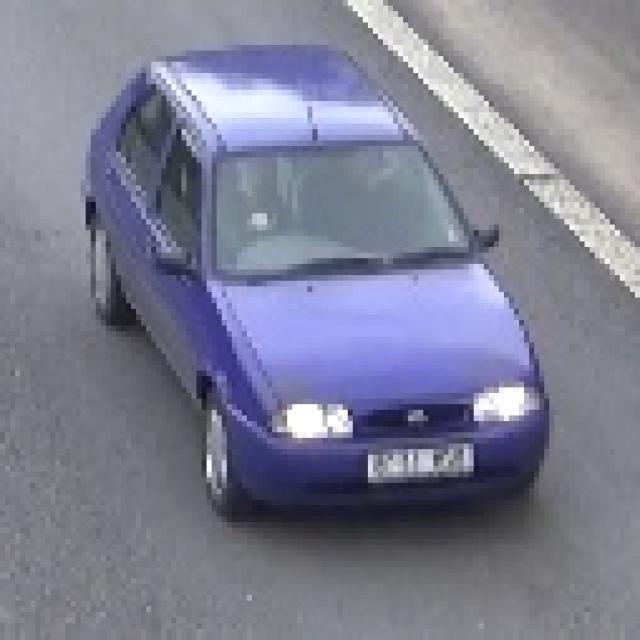blue: (81, 54, 549, 518)
